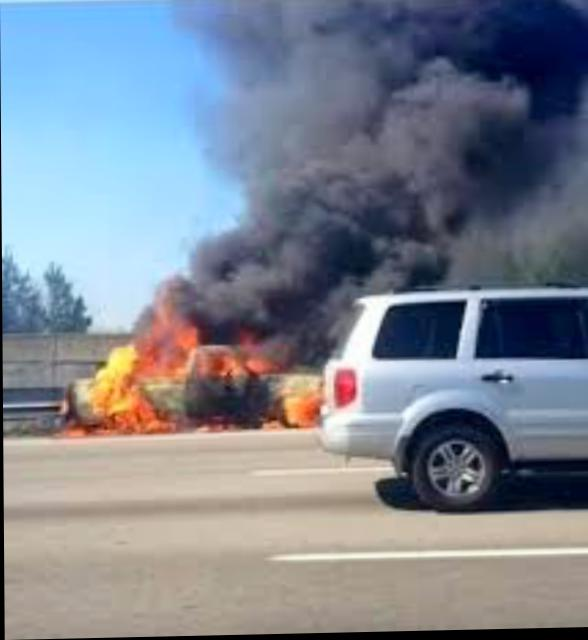fire: (63, 284, 323, 441)
